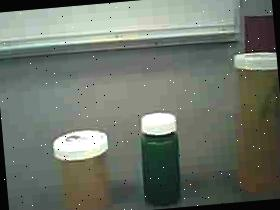Bottle A: (223, 45, 280, 201)
Bottle B: (44, 119, 122, 210)
Bottle C: (131, 100, 197, 210)
